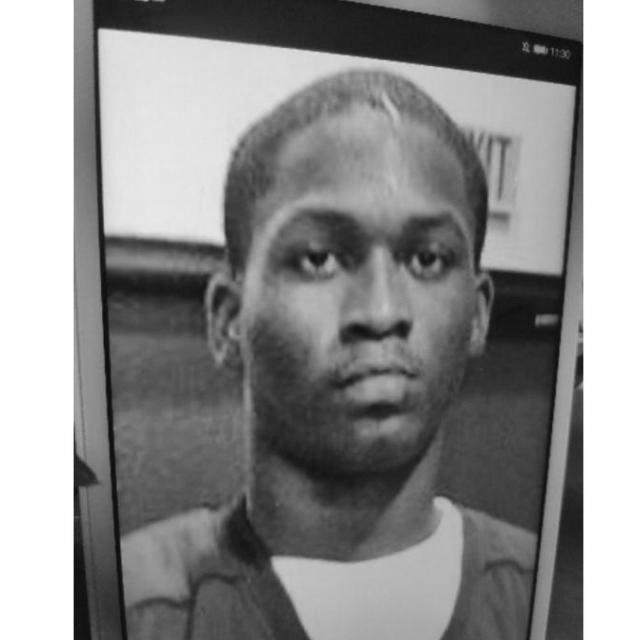fake: (74, 0, 582, 640)
